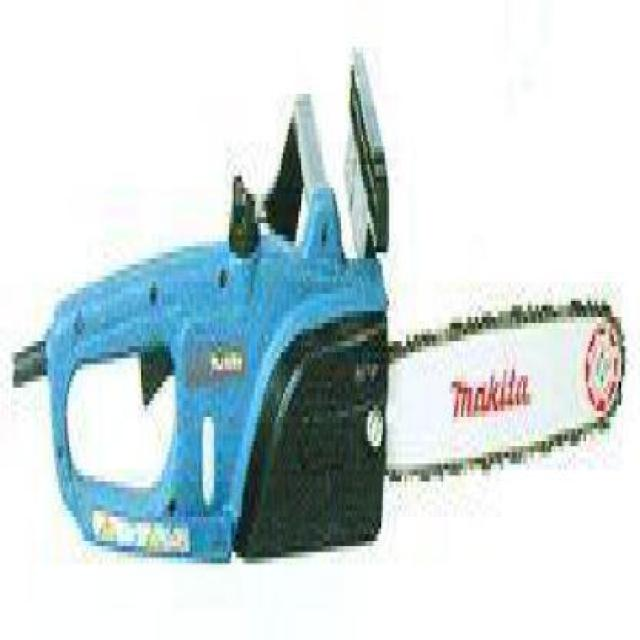Chainsaw: (11, 46, 626, 566)
